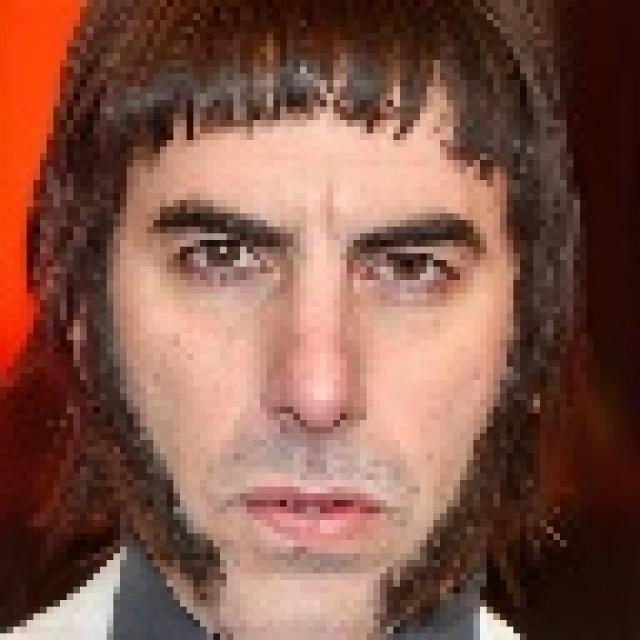angry: (63, 5, 575, 640)
